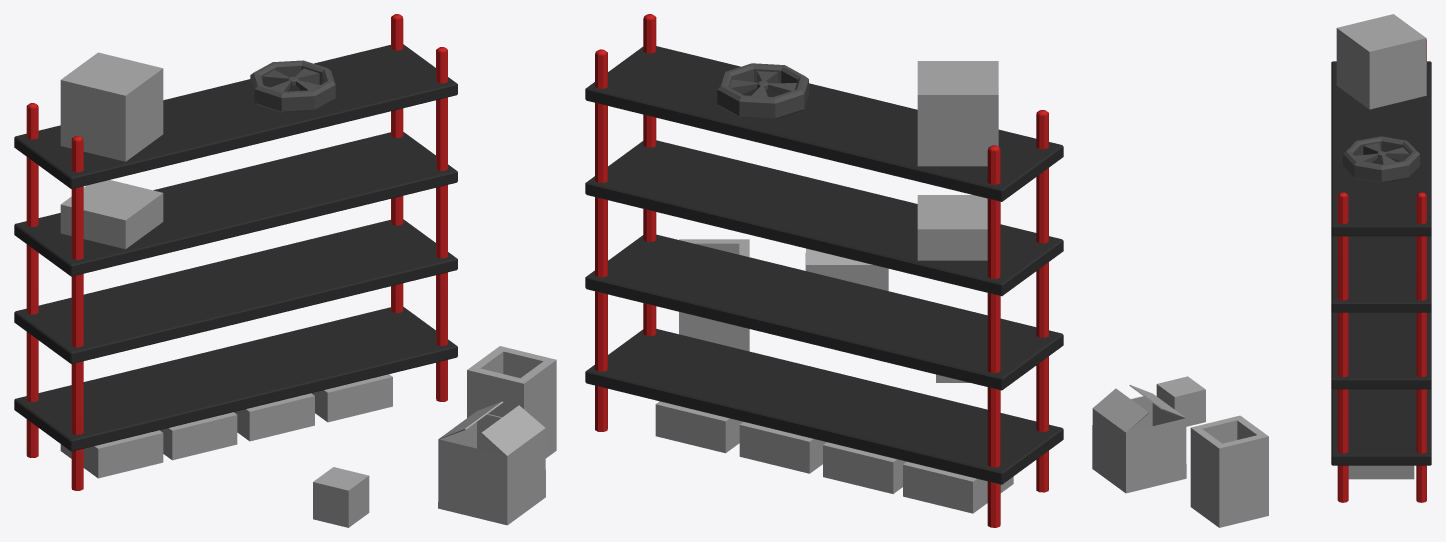
Rendered from shelf.fbx.
The picture shows the model from 3 angles, left to right: view 1: azimuth 30°, elevation 25°; view 2: azimuth 150°, elevation 25°; view 3: azimuth 270°, elevation 25°; orthographic projection. The views are drawn at different scales.
Visible parts, largest first — view 1: wrack; view 2: wrack; view 3: wrack.
Boxes of the visible parts, left/top/right/bottom form: wrack: left=14, top=14, right=556, bottom=527; wrack: left=585, top=14, right=1063, bottom=527; wrack: left=1092, top=14, right=1431, bottom=527.
Bounding box in the file's own units: 3.11 × 2.78 × 2.48.
